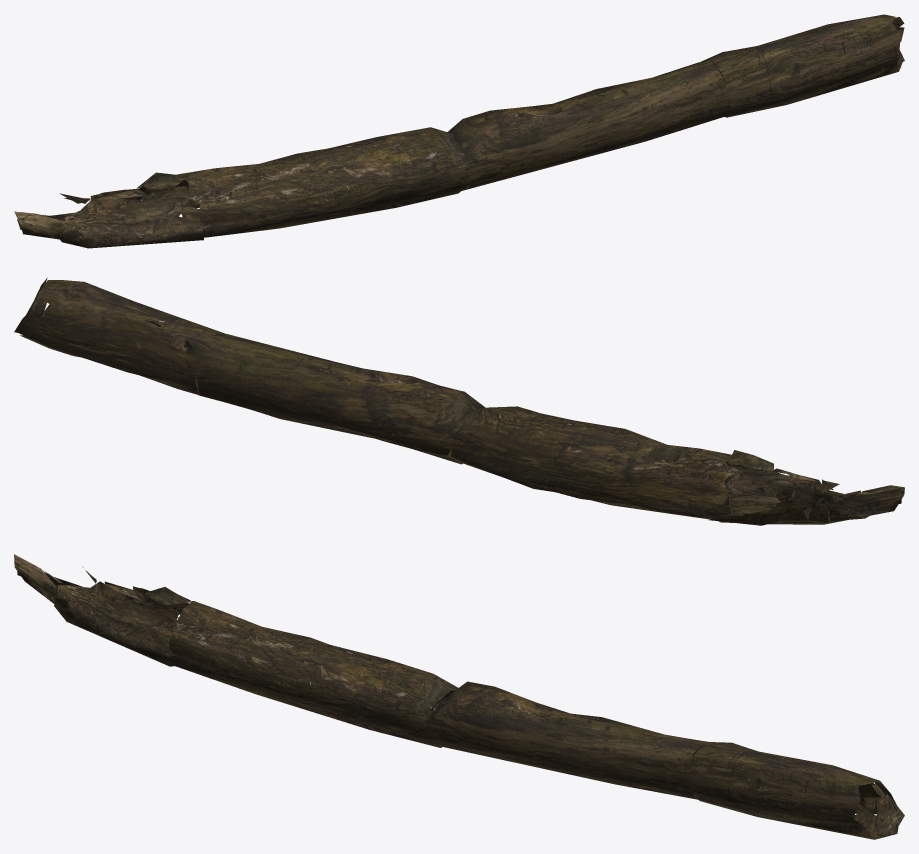
The model's file is dead_tree_trunk_lod2.gltf.
The picture shows the model from 3 angles, top to bottom: view 1: azimuth 30°, elevation 25°; view 2: azimuth 150°, elevation 25°; view 3: azimuth 330°, elevation 25°; orthographic projection.
Parts seen in each view (by area): view 1: dead_tree_trunk_lod2; view 2: dead_tree_trunk_lod2; view 3: dead_tree_trunk_lod2.
Boxes of the visible parts, x1,y1,x2,y2 form: dead_tree_trunk_lod2: (14,14,904,248); dead_tree_trunk_lod2: (14,278,904,525); dead_tree_trunk_lod2: (14,554,904,839).
Bounding box in the file's own units: 3.04 × 0.2722 × 0.2751.
1 material, 1 textured.
